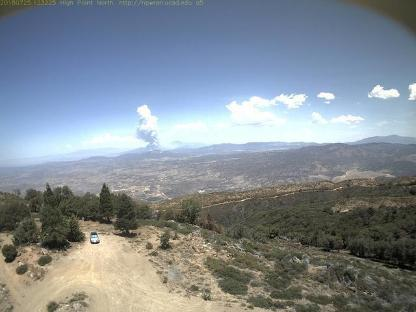smoke: (134, 103, 164, 155)
